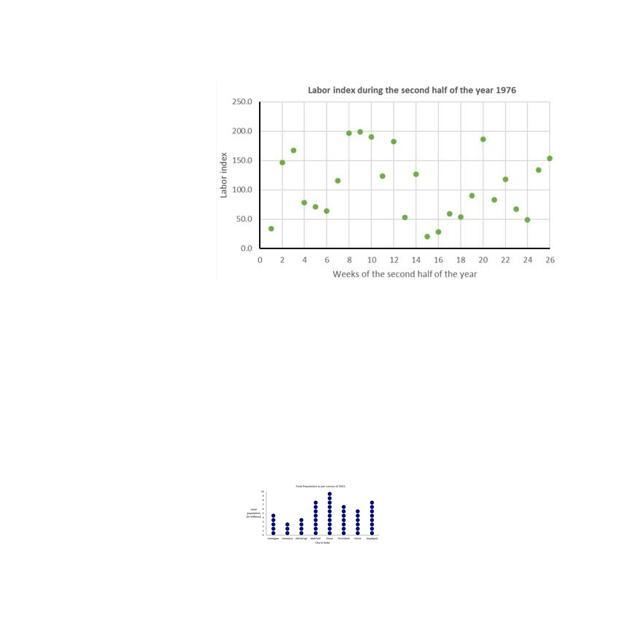Graph: (216, 81, 559, 282), (245, 484, 380, 546)
